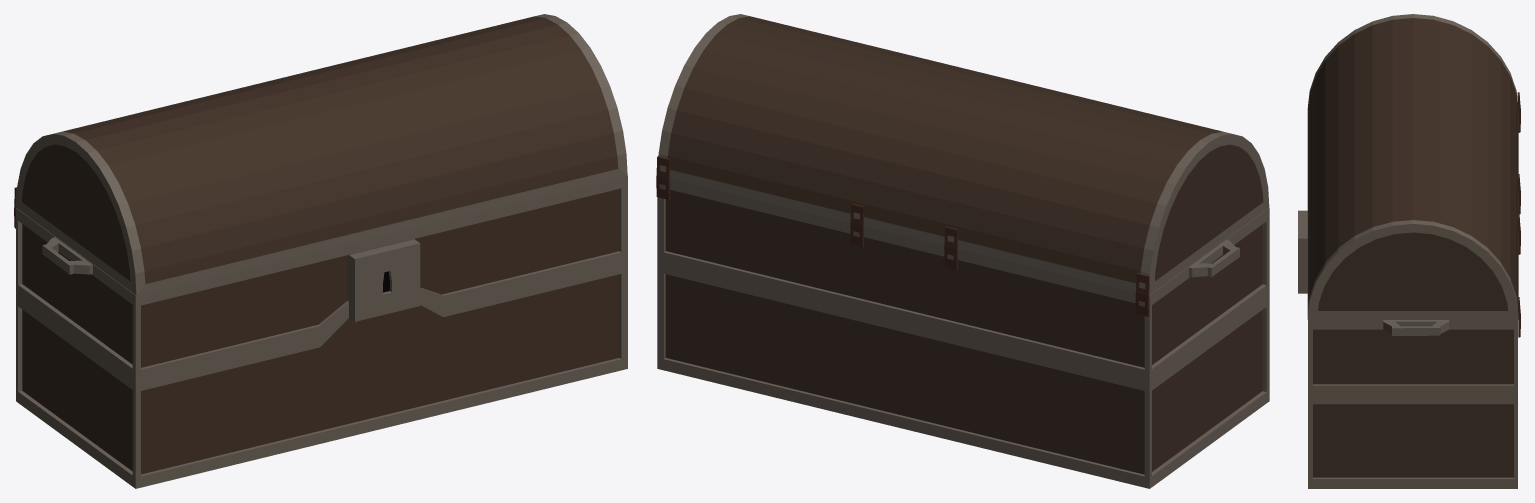
Rendered from ChestClosed.fbx.
3 renders of one model, left to right at view 1: azimuth 30°, elevation 25°; view 2: azimuth 150°, elevation 25°; view 3: azimuth 270°, elevation 25°, orthographic. The views are drawn at different scales.
Visible parts, largest first — view 1: ChestClosed; view 2: ChestClosed; view 3: ChestClosed.
Boxes of the visible parts, x1,y1,x2,y2 form: ChestClosed: (14, 14, 627, 488); ChestClosed: (656, 14, 1269, 488); ChestClosed: (1298, 14, 1520, 488).
Bounding box in the file's own units: 510 × 279 × 213.
